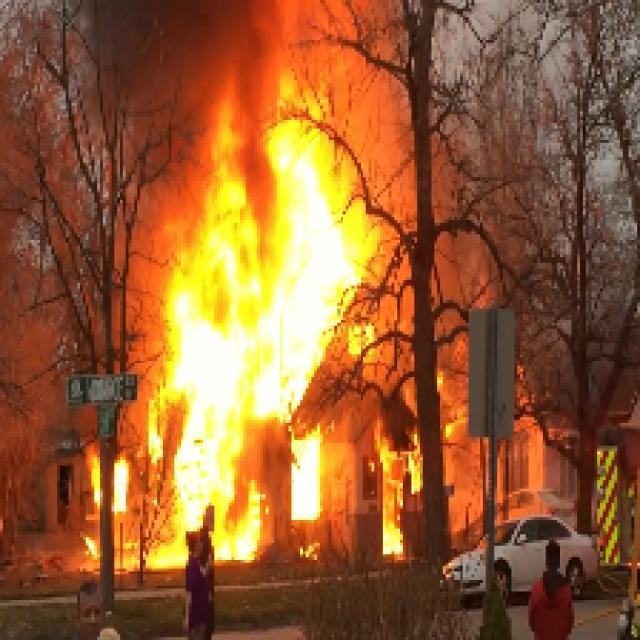Fire: (169, 135, 356, 540)
Smoke: (114, 6, 398, 130)
